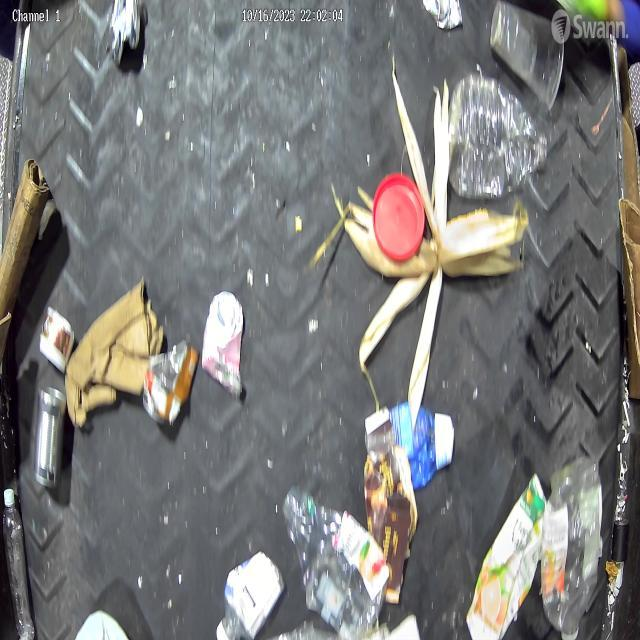can: (142, 338, 199, 428), (202, 288, 246, 401), (32, 382, 68, 492), (422, 0, 464, 31)
non_white_jug: (389, 400, 456, 490)
plastic_bottle: (280, 482, 390, 640), (446, 72, 549, 200), (538, 452, 602, 640), (1, 485, 36, 640)
